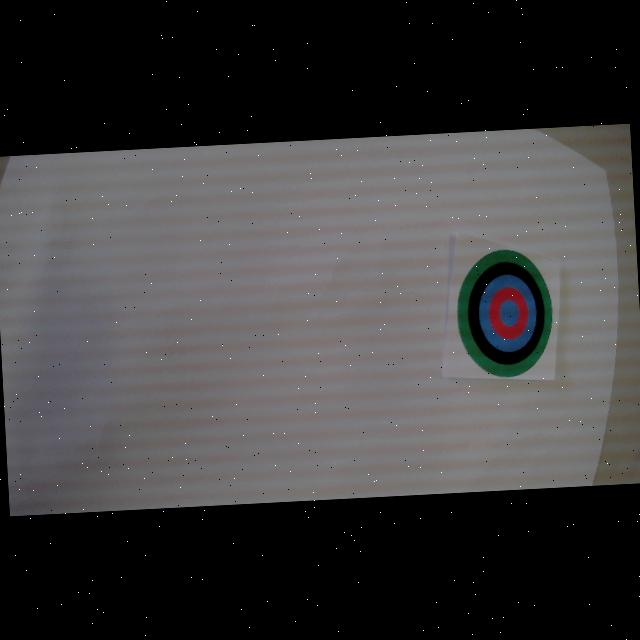COGNITIVE: (455, 248, 557, 382)
